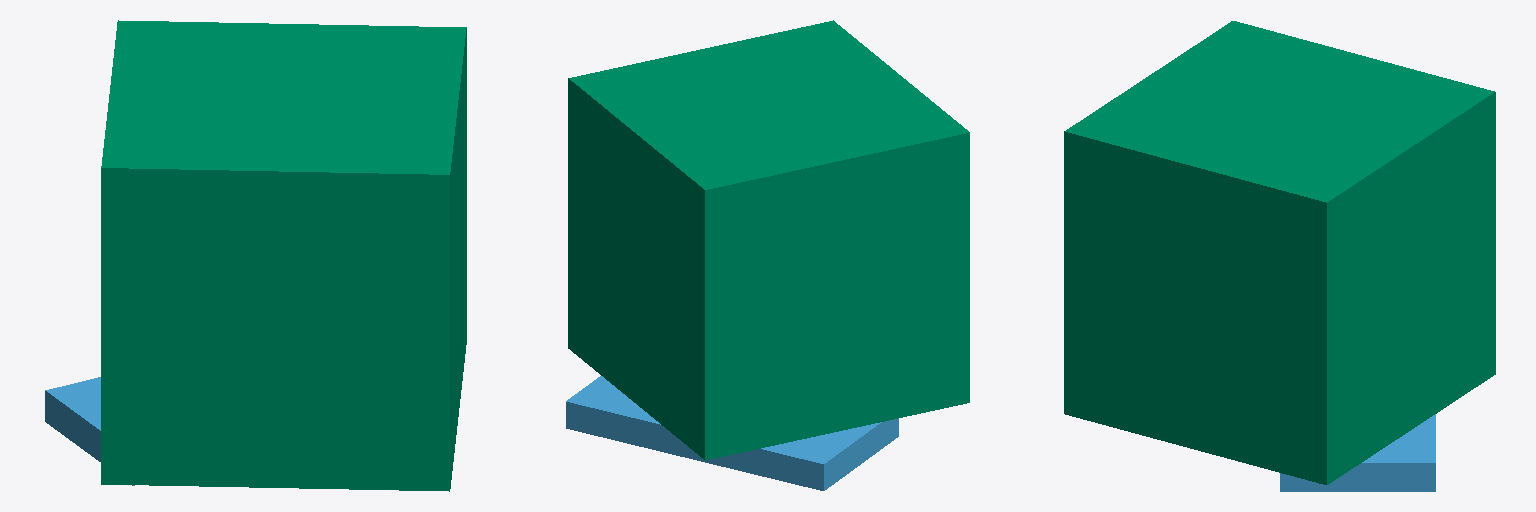
robot.urdf — simple_box:
<?xml version="1.0"?>
<robot name="simple_box">

    <link name="dummy" />
    <joint name="dummy_joint" type="fixed">
        <parent link="dummy"/>
        <child link="base_link"/>
    </joint>

    <link name="base_link">
        <inertial>
            <origin xyz="0.0 0.0 0.0" rpy="0.0 0.0 0.0"/>
            <mass value="10"/>
            <inertia ixx="0.0013" ixy="0.0" ixz="0.0" iyy="0.0013" iyz="0.0" izz="0.0013"/>
        </inertial>
        <visual>
            <origin xyz="0.0 0.05 0.01" />
            <geometry>
                <box size="0.2 0.1 0.02"/>
            </geometry>
        </visual>
        <collision>
            <origin xyz="0.0 0.0 0.025" />
            <geometry>
                <box size="0.2 0.2 0.05"/>
            </geometry>
        </collision>
    </link>

    <link name="link_box">
        <inertial>
            <origin xyz="0.0 0.0 0.0" rpy="0.0 0.0 0.0"/>
            <mass value="0.2"/>
            <inertia ixx="0.0013" ixy="0.0" ixz="0.0" iyy="0.0013" iyz="0.0" izz="0.0013"/>
        </inertial>
        <visual>
            <origin xyz="0.0 0.0 0.122" rpy="0.0 0.0 1.0" />
            <geometry>
                <box size="0.2 0.2 0.2"/>
            </geometry>
        </visual>
        <collision>
            <origin xyz="0.0 0.0 0.1" />
            <geometry>
                <box size="0.2 0.2 0.2"/>
            </geometry>
        </collision>
    </link>

    <joint name="joint_box" type="revolute">
        <origin xyz="0.0 0.0 0.0" rpy="0.0 0.0 0.0"/>
        <parent link="base_link"/>
        <child link="link_box"/>
        <axis xyz="1.0 0.0 0.0"/>
        <limit lower="-3.14" upper="3.14" effort="100.0" velocity="0.2"/>
    </joint>

    <transmission name="trans_box">
        <type>transmission_interface/SimpleTransmission</type>
        <joint name="joint_box">
            <hardwareInterface>hardware_interface/PositionJointInterface</hardwareInterface>
        </joint>
        <actuator name="motor_box">
            <hardwareInterface>hardware_interface/PositionJointInterface</hardwareInterface>
            <mechanicalReduction>1</mechanicalReduction>
        </actuator>
    </transmission>

    <gazebo>
        <plugin name="ros_control" filename="libgazebo_ros_control.so" />
    </gazebo>

    <gazebo reference="link_box" >
        <material>Gazebo/Blue</material>
    </gazebo>


</robot>

--- Facts derived from the render (not from the file) ---
Views: 3 orthographic renders of the robot side by side, from view 1: azimuth 30°, elevation 25°; view 2: azimuth 150°, elevation 25°; view 3: azimuth 270°, elevation 25°.
Robot: simple_box — 3 links, 2 joints (1 revolute, 1 fixed); root link dummy; default pose: all joints at 0.
Visible links, largest first — view 1: link_box, base_link; view 2: link_box, base_link; view 3: link_box, base_link.
Link boxes in pixels (bbox=[...]): link_box: bbox=[101, 20, 466, 491]; base_link: bbox=[45, 377, 134, 485]; link_box: bbox=[568, 20, 969, 460]; base_link: bbox=[566, 376, 898, 490]; link_box: bbox=[1064, 21, 1495, 484]; base_link: bbox=[1280, 414, 1435, 491].
Bounding box of the posed robot: 0.2764 × 0.2764 × 0.222 m (x, y, z).
Geometry: primitives only (box / cylinder / sphere), no mesh files.